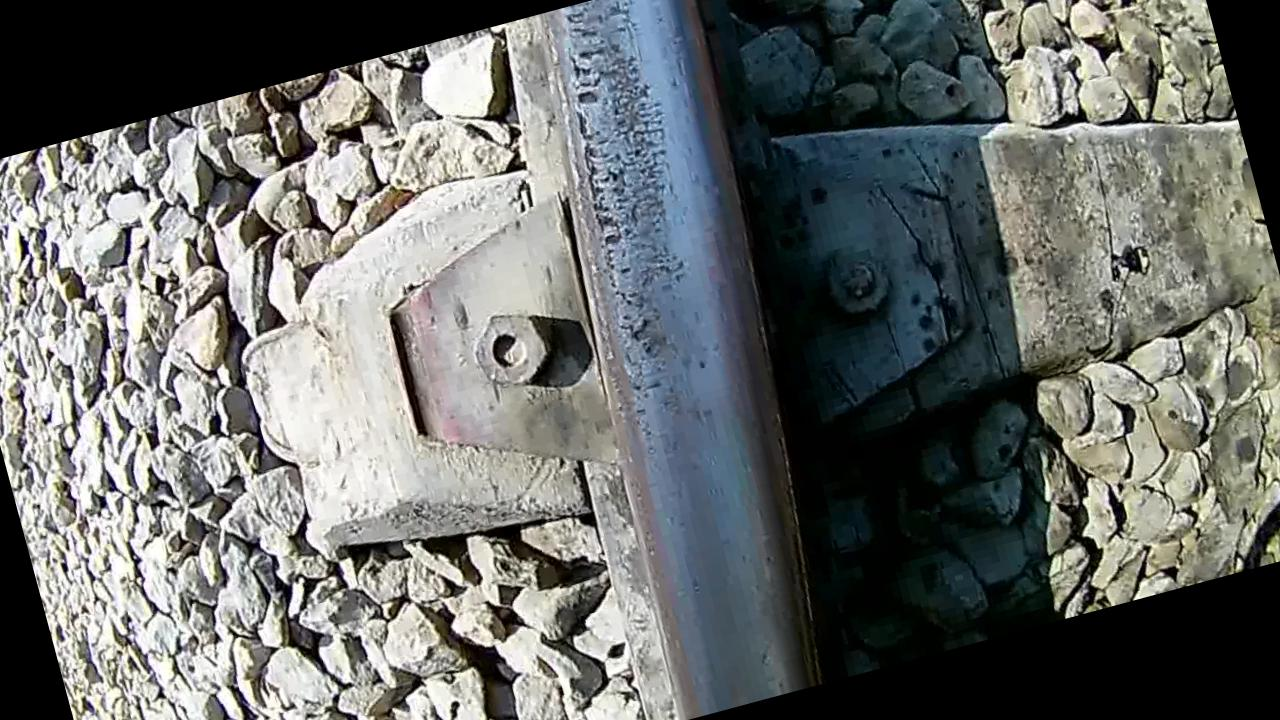crack: (524, 0, 868, 714)
